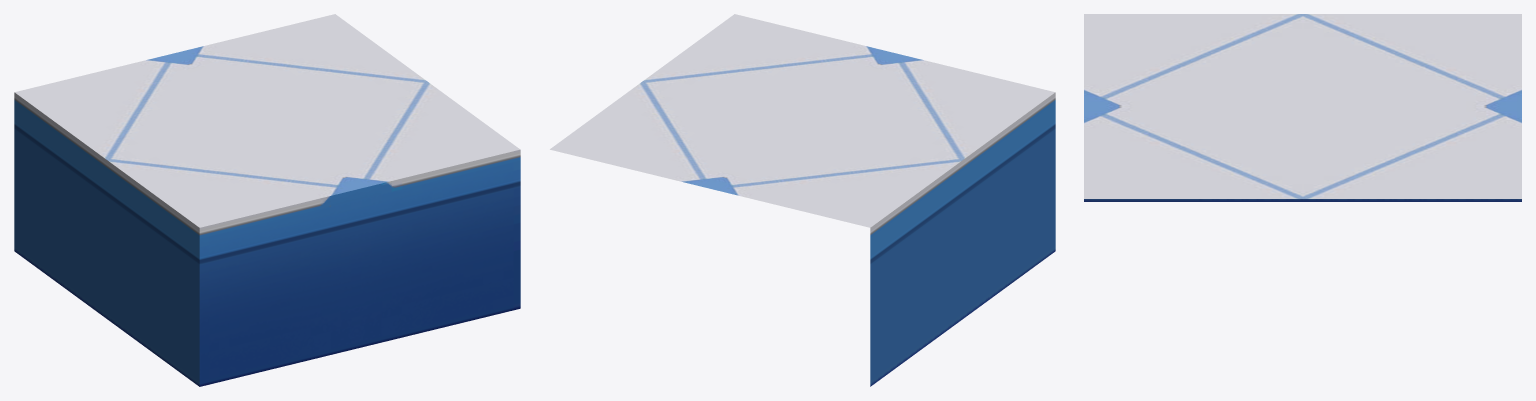
Rendered from my_poolparty_01_b_tile.glb.
The picture shows the model from 3 angles, left to right: view 1: azimuth 30°, elevation 25°; view 2: azimuth 150°, elevation 25°; view 3: azimuth 270°, elevation 25°; orthographic projection. The views are drawn at different scales.
Parts seen in each view (by area): view 1: my_poolparty_01_b_tile; view 2: my_poolparty_01_b_tile; view 3: my_poolparty_01_b_tile.
Part boxes in pixels (x1,y1,x2,y2): my_poolparty_01_b_tile: (14,14,520,386); my_poolparty_01_b_tile: (550,14,1055,386); my_poolparty_01_b_tile: (1084,14,1521,201).
Bounding box in the file's own units: 0.006 × 0.00284 × 0.006.
Materials: 1 (1 with a texture image).
